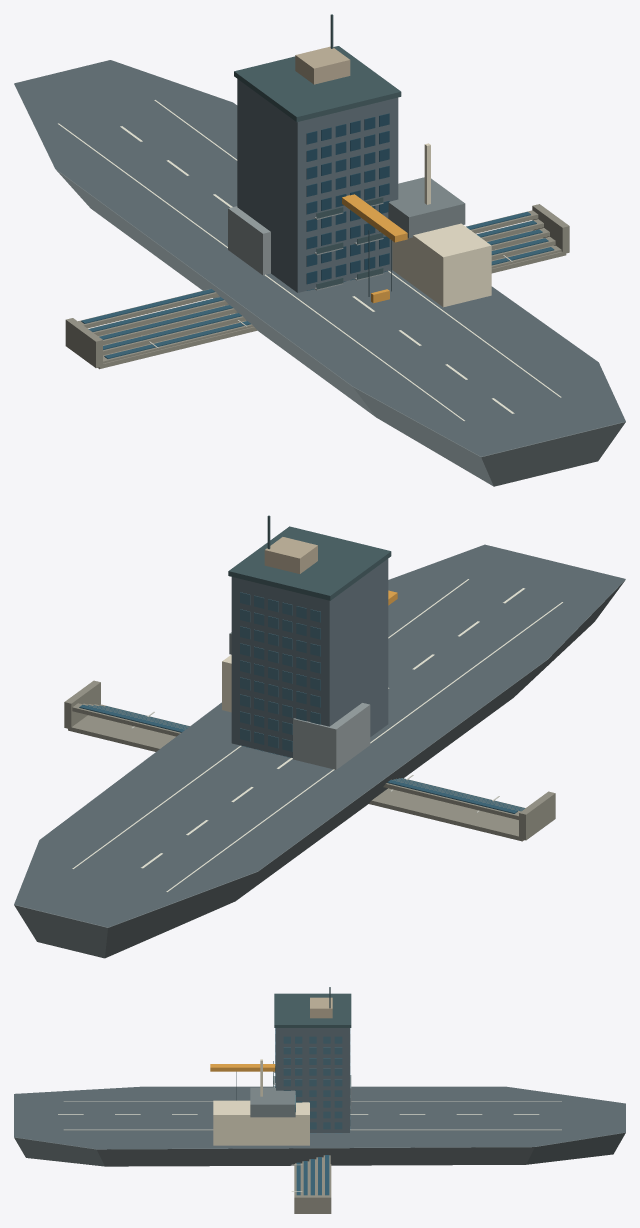
Rendered from environment.glb.
3 renders of one model, top to bottom at view 1: azimuth 30°, elevation 25°; view 2: azimuth 150°, elevation 25°; view 3: azimuth 270°, elevation 25°, orthographic. The views are drawn at different scales.
Visible parts, largest first — view 1: carrier_mesh, urban-office_stone, urban-office_window, urban-office_metal, urban-office_concrete, Concrete_footprint, urban-office_plaster, Raked_step_01, Raked_step_04, Raked_step_03, Raked_step_02, Stand_end_wall (+9 smaller); view 2: carrier_mesh, urban-office_stone, urban-office_window2, urban-office_metal, Concrete_footprint, urban-office_concrete, Raked_step_04, urban-office_plaster, Stand_end_wall, Bench_row_04, Stand_end_wall.001; view 3: carrier_mesh, urban-office_stone, urban-office_window2, urban-office_metal, Stand_end_wall.001, Gantry_jib, urban-office_plaster.
Boxes of the visible parts, x1=… form: carrier_mesh: x1=14, y1=60, x2=625, y2=486; urban-office_stone: x1=237, y1=79, x2=398, y2=292; urban-office_window: x1=306, y1=113, x2=389, y2=290; urban-office_metal: x1=234, y1=14, x2=401, y2=121; urban-office_concrete: x1=228, y1=206, x2=270, y2=275; Concrete_footprint: x1=98, y1=230, x2=566, y2=369; urban-office_plaster: x1=295, y1=46, x2=350, y2=84; Raked_step_01: x1=103, y1=236, x2=555, y2=355; Raked_step_04: x1=78, y1=210, x2=538, y2=328; Raked_step_03: x1=89, y1=219, x2=543, y2=335; Raked_step_02: x1=99, y1=228, x2=549, y2=344; Stand_end_wall: x1=65, y1=318, x2=102, y2=367; carrier_mesh: x1=14, y1=544, x2=625, y2=958; urban-office_stone: x1=231, y1=559, x2=388, y2=757; urban-office_window2: x1=240, y1=592, x2=320, y2=757; urban-office_metal: x1=228, y1=515, x2=391, y2=600; Concrete_footprint: x1=68, y1=715, x2=524, y2=841; urban-office_concrete: x1=293, y1=703, x2=370, y2=769; Raked_step_04: x1=72, y1=703, x2=520, y2=819; urban-office_plaster: x1=264, y1=537, x2=317, y2=573; Stand_end_wall: x1=519, y1=791, x2=555, y2=840; Bench_row_04: x1=79, y1=705, x2=517, y2=813; Stand_end_wall.001: x1=64, y1=680, x2=100, y2=728; carrier_mesh: x1=14, y1=1059, x2=625, y2=1166; urban-office_stone: x1=276, y1=1028, x2=349, y2=1132; urban-office_window2: x1=283, y1=1028, x2=350, y2=1133; urban-office_metal: x1=274, y1=987, x2=351, y2=1027; Stand_end_wall.001: x1=294, y1=1195, x2=331, y2=1213; Gantry_jib: x1=210, y1=1064, x2=275, y2=1071; urban-office_plaster: x1=310, y1=997, x2=332, y2=1018.
Size of the model in its own units: 118 by 64.18 by 215.
